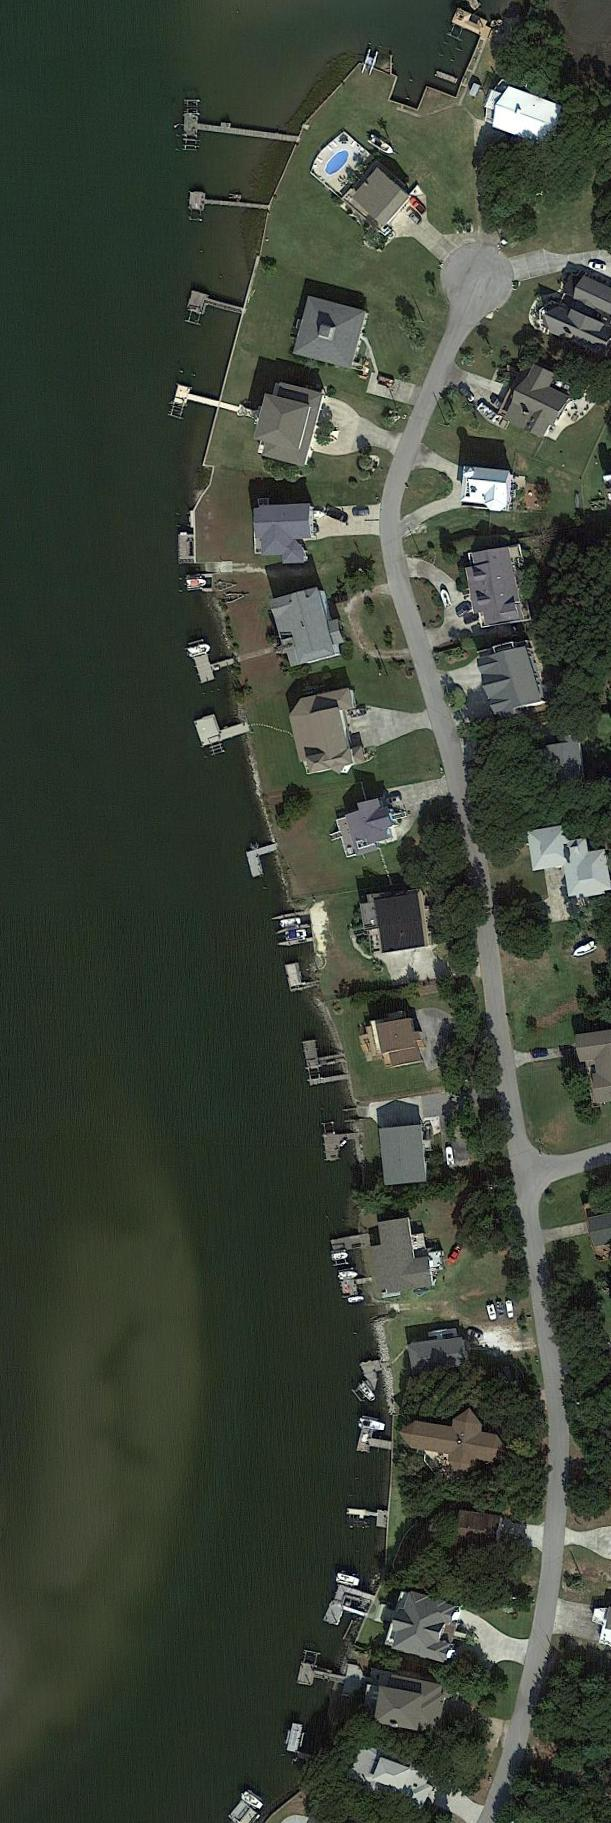harbor: (178, 109, 297, 151), (322, 1583, 376, 1637), (172, 384, 240, 422), (194, 705, 252, 748), (189, 190, 269, 217), (186, 289, 244, 327), (283, 1722, 324, 1767), (194, 646, 239, 685), (302, 1036, 344, 1071), (297, 1663, 342, 1694), (246, 843, 286, 878), (355, 1427, 395, 1459), (283, 959, 321, 993), (324, 1132, 360, 1161), (360, 1358, 388, 1395), (348, 1506, 389, 1530), (331, 1234, 371, 1254), (342, 1277, 374, 1299), (309, 1072, 347, 1088)
ship: (364, 131, 396, 157), (358, 47, 380, 79), (569, 939, 599, 961), (240, 1789, 265, 1811), (357, 1416, 387, 1434), (184, 642, 213, 659), (358, 1382, 379, 1404), (335, 1573, 360, 1588), (437, 588, 453, 609), (283, 928, 309, 941), (336, 1268, 361, 1281), (279, 916, 302, 929), (444, 1146, 457, 1168), (185, 578, 206, 589), (486, 1304, 497, 1322), (332, 1251, 348, 1261)
